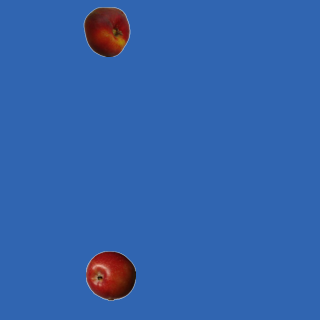Apple Braeburn: (85, 250, 135, 300)
Nectarine Flat: (81, 6, 131, 56)
